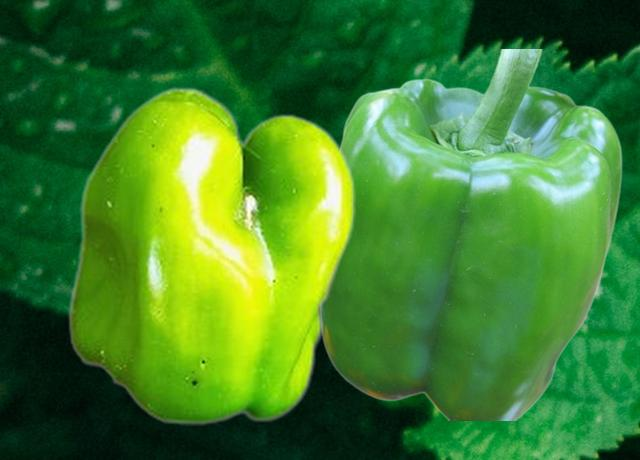bell_pepper: (321, 49, 621, 419), (67, 86, 354, 424)
